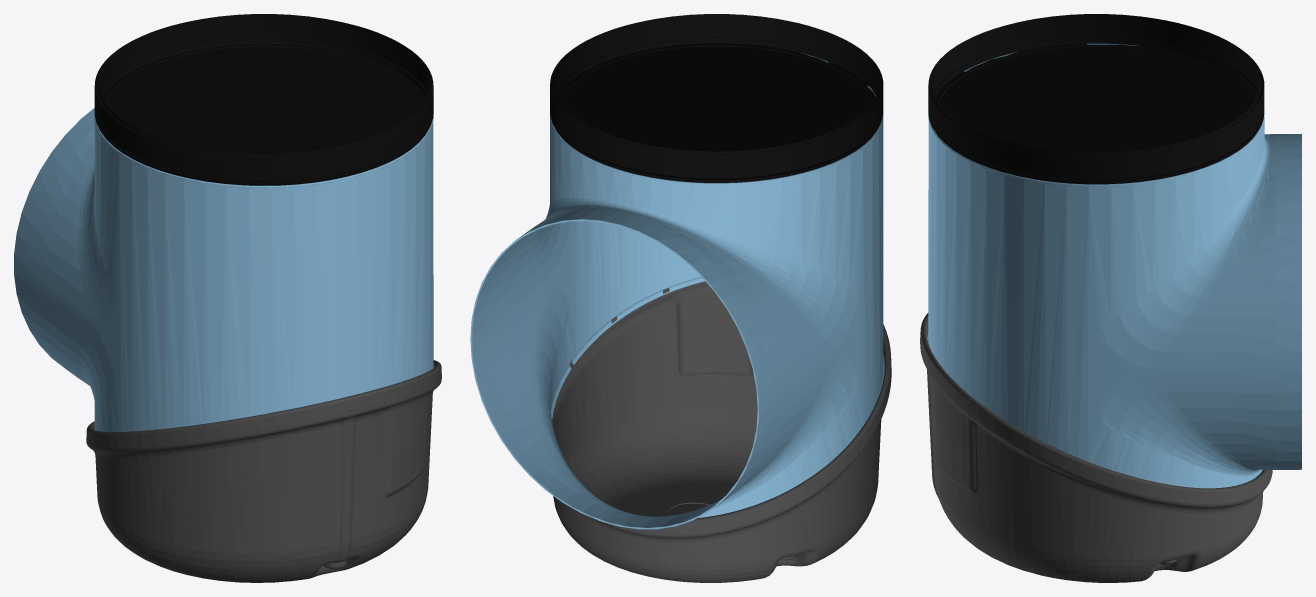
File: wrist2.obj
The picture shows the model from 3 angles, left to right: view 1: azimuth 30°, elevation 25°; view 2: azimuth 150°, elevation 25°; view 3: azimuth 270°, elevation 25°; orthographic projection.
Parts seen in each view (by area): view 1: obj1, obj2, obj3; view 2: obj1, obj2, obj3; view 3: obj1, obj3, obj2.
Boxes of the visible parts, <box> form: obj1: <box>14,108,434,431</box>; obj2: <box>86,360,441,582</box>; obj3: <box>94,14,433,185</box>; obj1: <box>470,53,884,529</box>; obj2: <box>552,281,891,582</box>; obj3: <box>550,14,883,182</box>; obj1: <box>927,43,1301,488</box>; obj3: <box>928,14,1264,184</box>; obj2: <box>920,313,1272,582</box>.
Size of the model in its own units: 0.0787 by 0.1099 by 0.0852.
